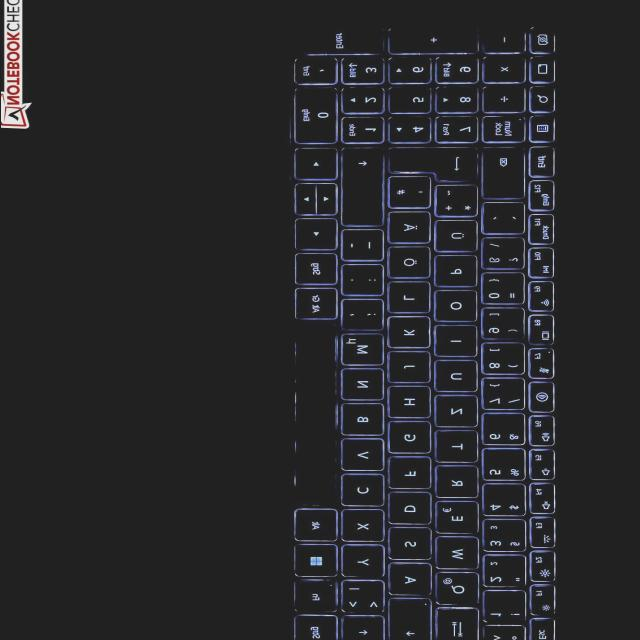0: (482, 274, 528, 307)
1: (484, 591, 529, 625)
2: (484, 555, 530, 589)
3: (483, 520, 529, 554)
4: (484, 485, 528, 518)
5: (484, 450, 528, 483)
6: (483, 414, 528, 447)
7: (482, 379, 528, 412)
8: (482, 345, 528, 377)
9: (482, 309, 528, 342)
a: (390, 564, 435, 598)
accent: (484, 204, 528, 236)
ae: (390, 212, 434, 245)
alt-left: (295, 510, 339, 544)
altgr-right: (296, 289, 340, 322)
b: (342, 404, 386, 438)
c: (342, 475, 387, 509)
caret: (484, 626, 528, 640)
comma: (343, 301, 387, 333)
d: (389, 493, 434, 527)
del: (483, 148, 527, 200)
e: (436, 502, 482, 536)
enter: (390, 149, 482, 184)
f: (390, 458, 434, 491)
g: (390, 422, 434, 456)
h: (389, 387, 434, 420)
hash: (390, 177, 434, 210)
i: (437, 327, 481, 359)
j: (390, 353, 434, 385)
k: (389, 318, 434, 350)
keyboard: (284, 10, 566, 640)
l: (389, 283, 433, 315)
less: (342, 581, 388, 615)
m: (343, 334, 387, 368)
minus: (343, 230, 386, 264)
n: (343, 369, 387, 403)
o: (436, 290, 481, 324)
oe: (389, 247, 433, 280)
p: (436, 257, 481, 289)
plus: (436, 187, 481, 219)
point: (343, 265, 387, 298)
q: (436, 573, 482, 608)
r: (437, 466, 481, 500)
s: (390, 528, 434, 562)
shift-left: (343, 617, 387, 640)
shift-lock: (390, 600, 434, 640)
shift-right: (343, 149, 387, 229)
space: (296, 324, 339, 508)
ss: (482, 239, 528, 272)
strg-left: (295, 616, 340, 640)
strg-right: (296, 254, 340, 287)
t: (437, 432, 481, 464)
tab: (437, 609, 481, 640)
u: (436, 361, 481, 394)
ue: (436, 221, 481, 255)
v: (343, 439, 387, 473)
w: (437, 538, 483, 572)
x: (343, 510, 387, 544)
y: (342, 545, 388, 580)
z: (436, 396, 480, 430)
